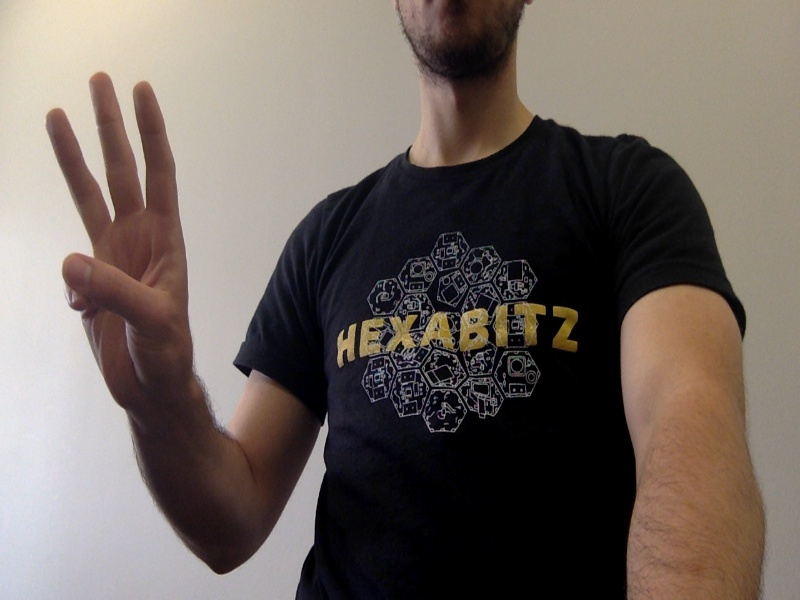3-hand: (45, 73, 192, 400)
